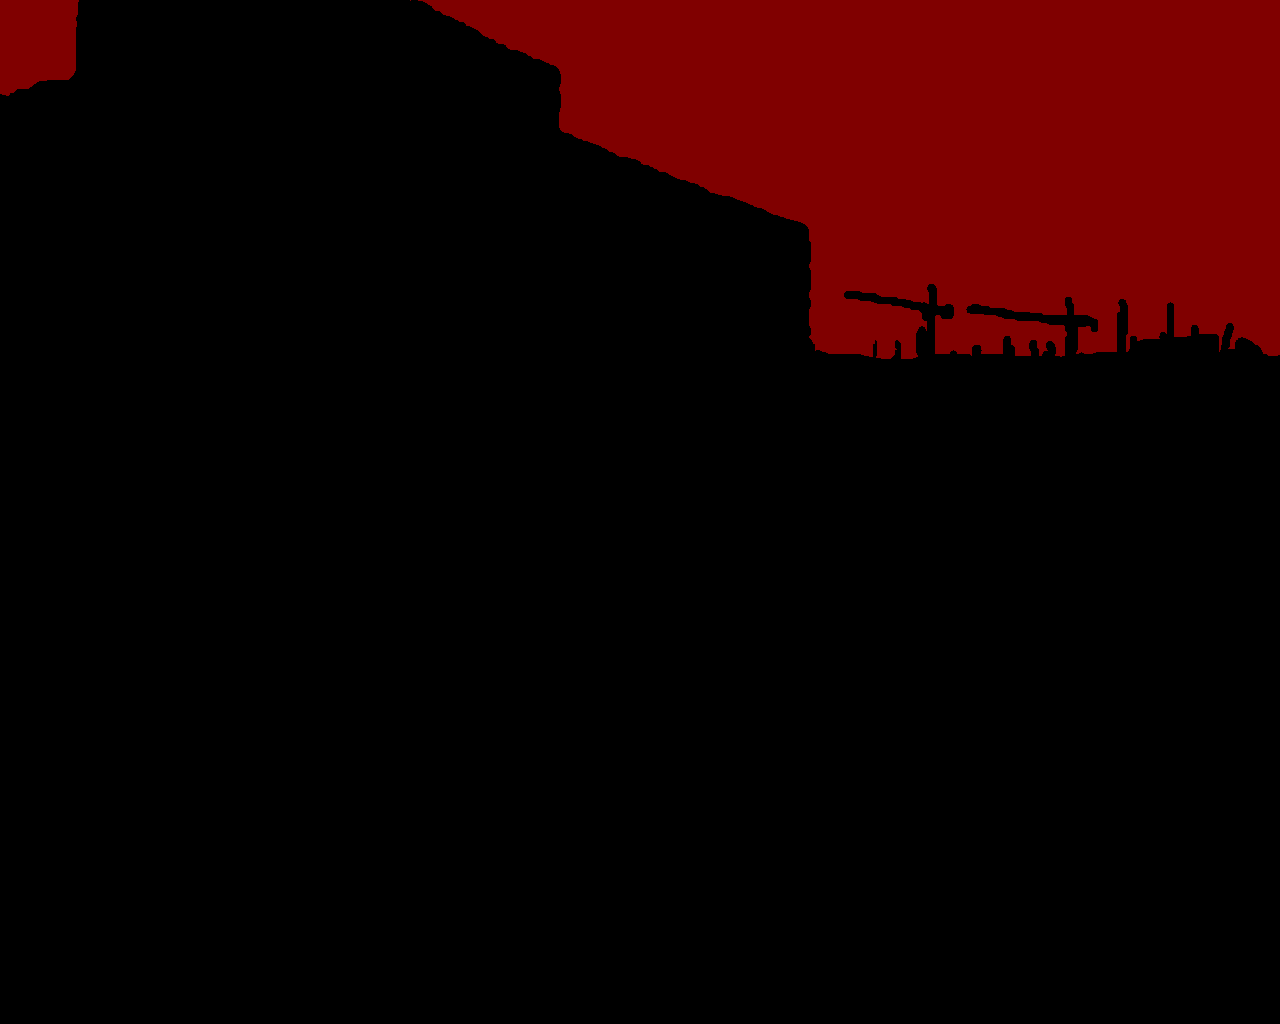Sky: (1, 1, 1279, 359)
